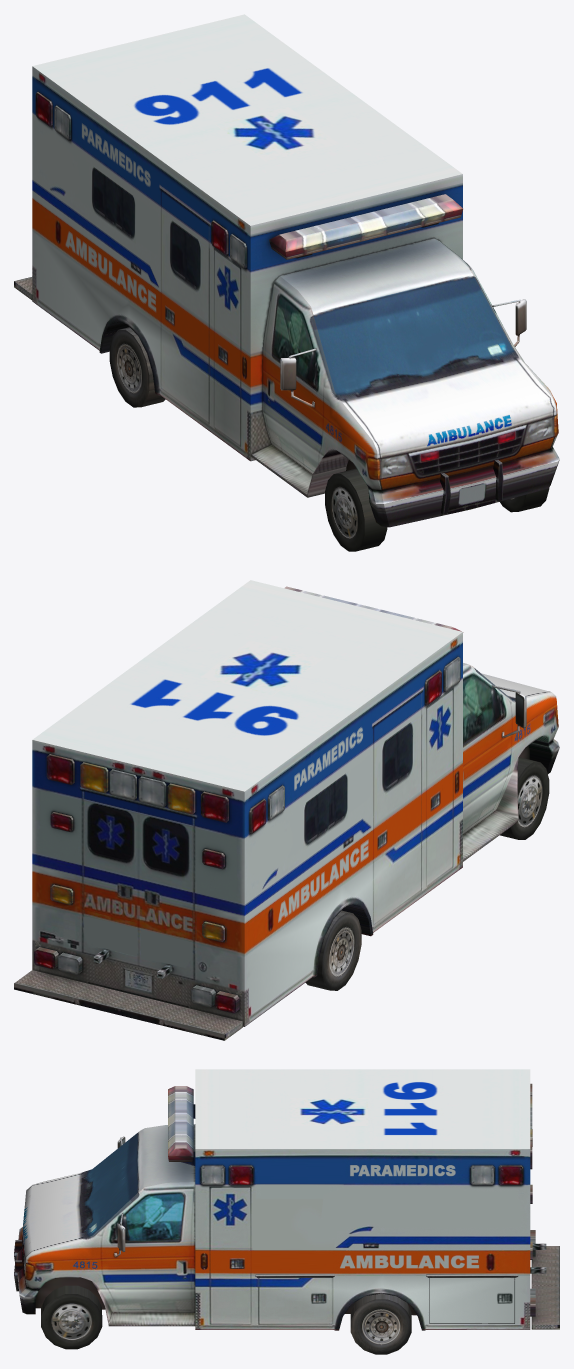
File: ambulance.fbx
The picture shows the model from 3 angles, top to bottom: view 1: azimuth 30°, elevation 25°; view 2: azimuth 150°, elevation 25°; view 3: azimuth 270°, elevation 25°; orthographic projection. The views are drawn at different scales.
Visible parts, largest first — view 1: objUSA_amb, objUSA_am4, objUSA_am2, objUSA_am3; view 2: objUSA_amb, objUSA_am2, objUSA_am4; view 3: objUSA_amb, objUSA_am3, objUSA_am1.
Boxes of the visible parts, <box> form: objUSA_amb: <box>14,14,559,527</box>; objUSA_am4: <box>325,468,387,551</box>; objUSA_am2: <box>109,327,165,407</box>; objUSA_am3: <box>500,488,549,512</box>; objUSA_amb: <box>14,580,559,1040</box>; objUSA_am2: <box>305,910,361,990</box>; objUSA_am4: <box>500,757,549,839</box>; objUSA_amb: <box>14,1069,559,1330</box>; objUSA_am3: <box>41,1285,102,1349</box>; objUSA_am1: <box>350,1293,411,1354</box>.
Size of the model in its own units: 264 by 275 by 661.
1 material, 1 textured.
